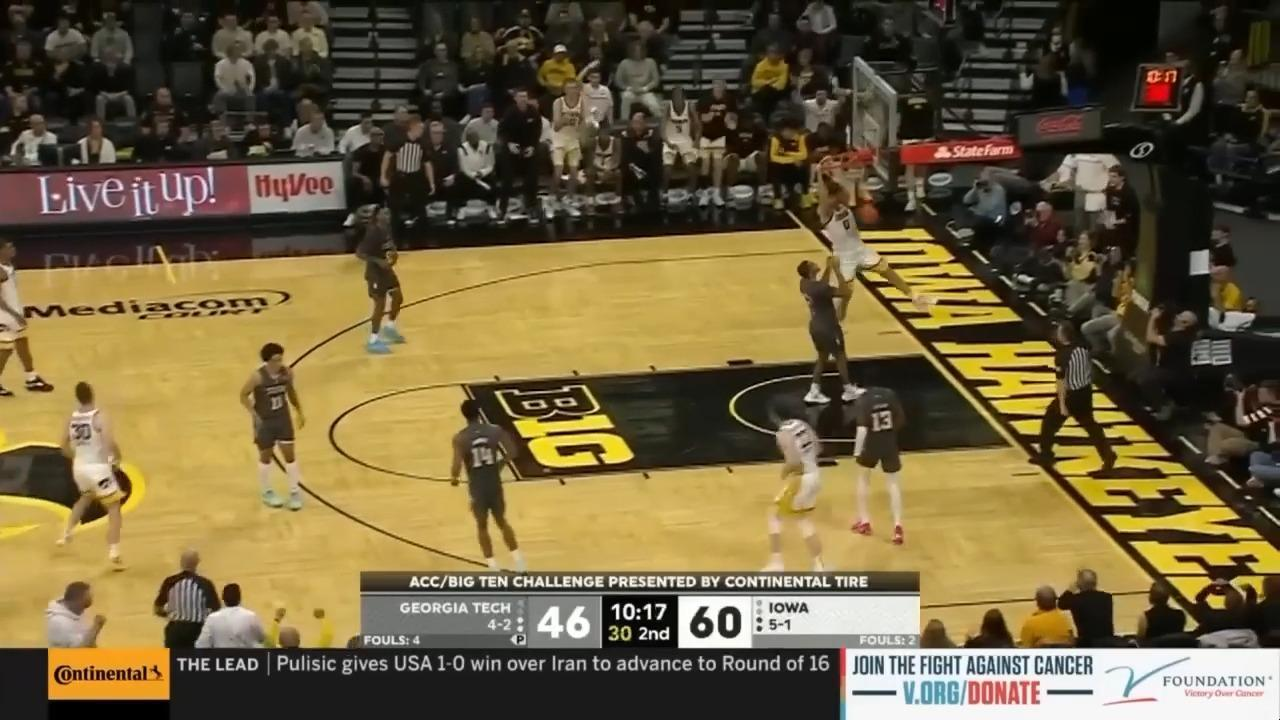basketball-player: (794, 156, 941, 338), (1019, 314, 1130, 483), (437, 393, 538, 575), (784, 253, 893, 409), (749, 389, 836, 579), (50, 381, 131, 575), (839, 361, 920, 546), (238, 339, 318, 514), (344, 201, 420, 359), (0, 231, 54, 408)
